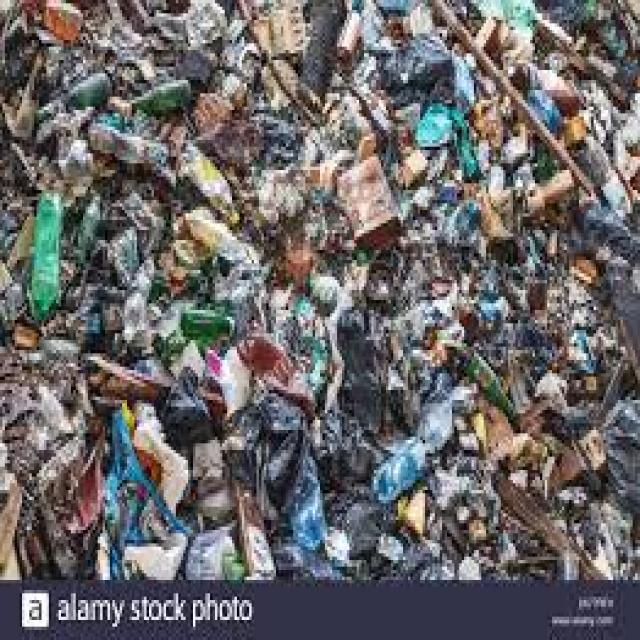heap: (18, 31, 619, 554)
